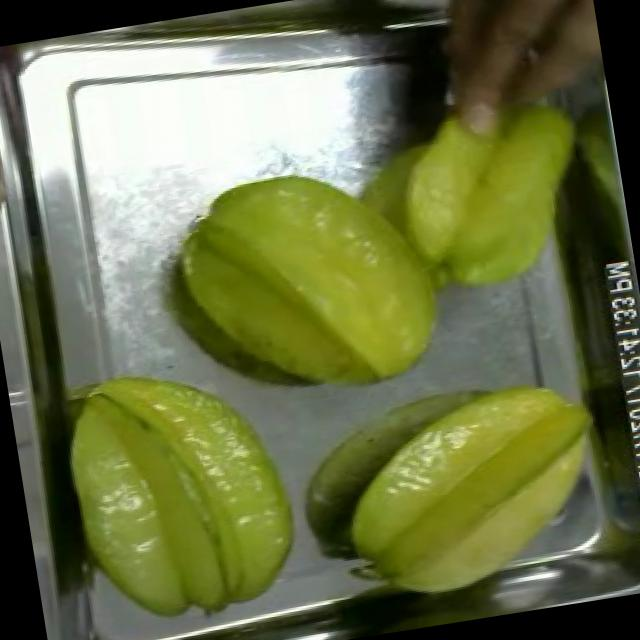fruit: (148, 137, 478, 430), (43, 338, 326, 640), (308, 360, 627, 624), (364, 76, 612, 316)
